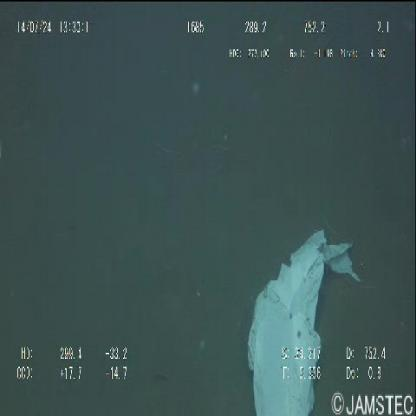Rác: (248, 228, 362, 414)
